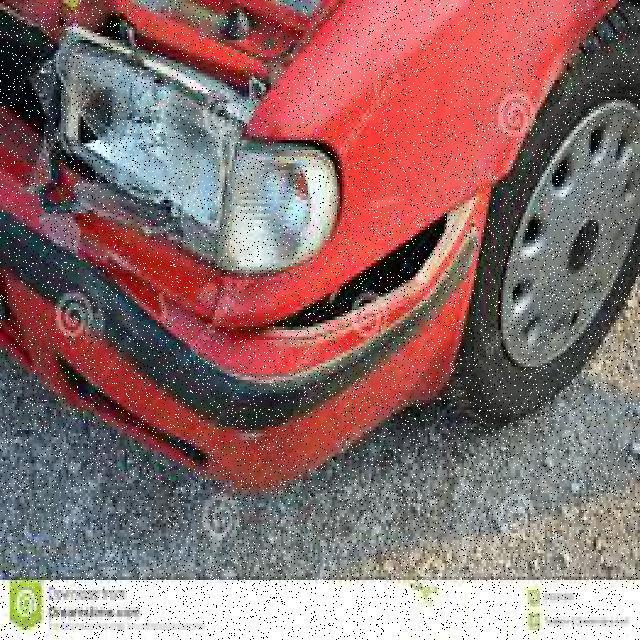Headlight-Damage: (24, 43, 281, 260)
front-bumper-dent: (7, 200, 518, 463)
